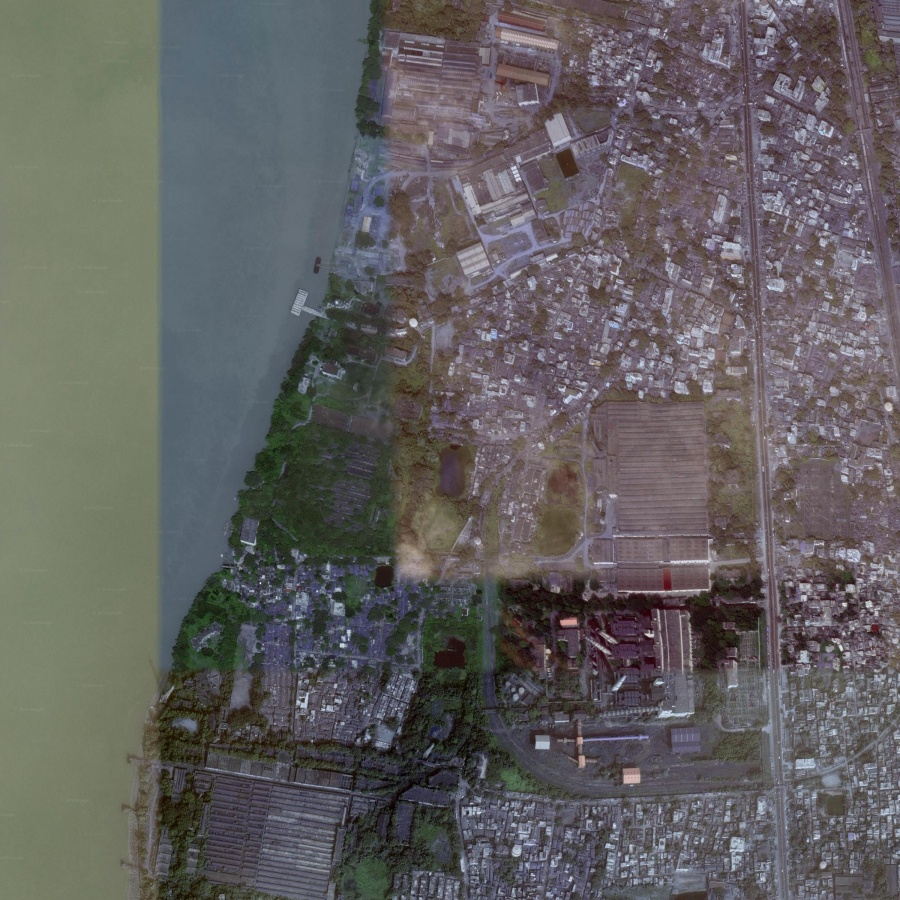PowerPlant: (489, 544, 734, 783)
